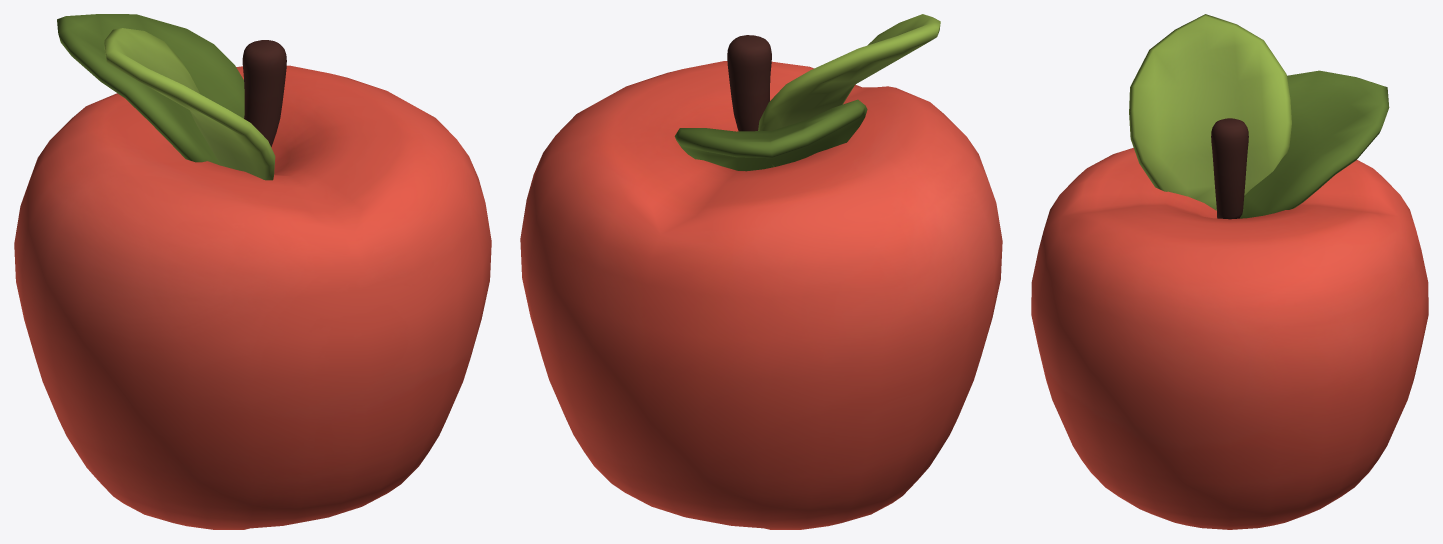
Rendered from appleBall.fbx.
3 views of the same model, side by side, from view 1: azimuth 30°, elevation 25°; view 2: azimuth 150°, elevation 25°; view 3: azimuth 270°, elevation 25° (orthographic). The views are drawn at different scales.
Visible parts, largest first — view 1: apple_whole; view 2: apple_whole; view 3: apple_whole.
Boxes of the visible parts, x1,y1,x2,y2 form: apple_whole: (14,14,491,529); apple_whole: (520,14,1002,529); apple_whole: (1031,14,1428,529).
Bounding box in the file's own units: 2.2 × 2.44 × 2.15.
